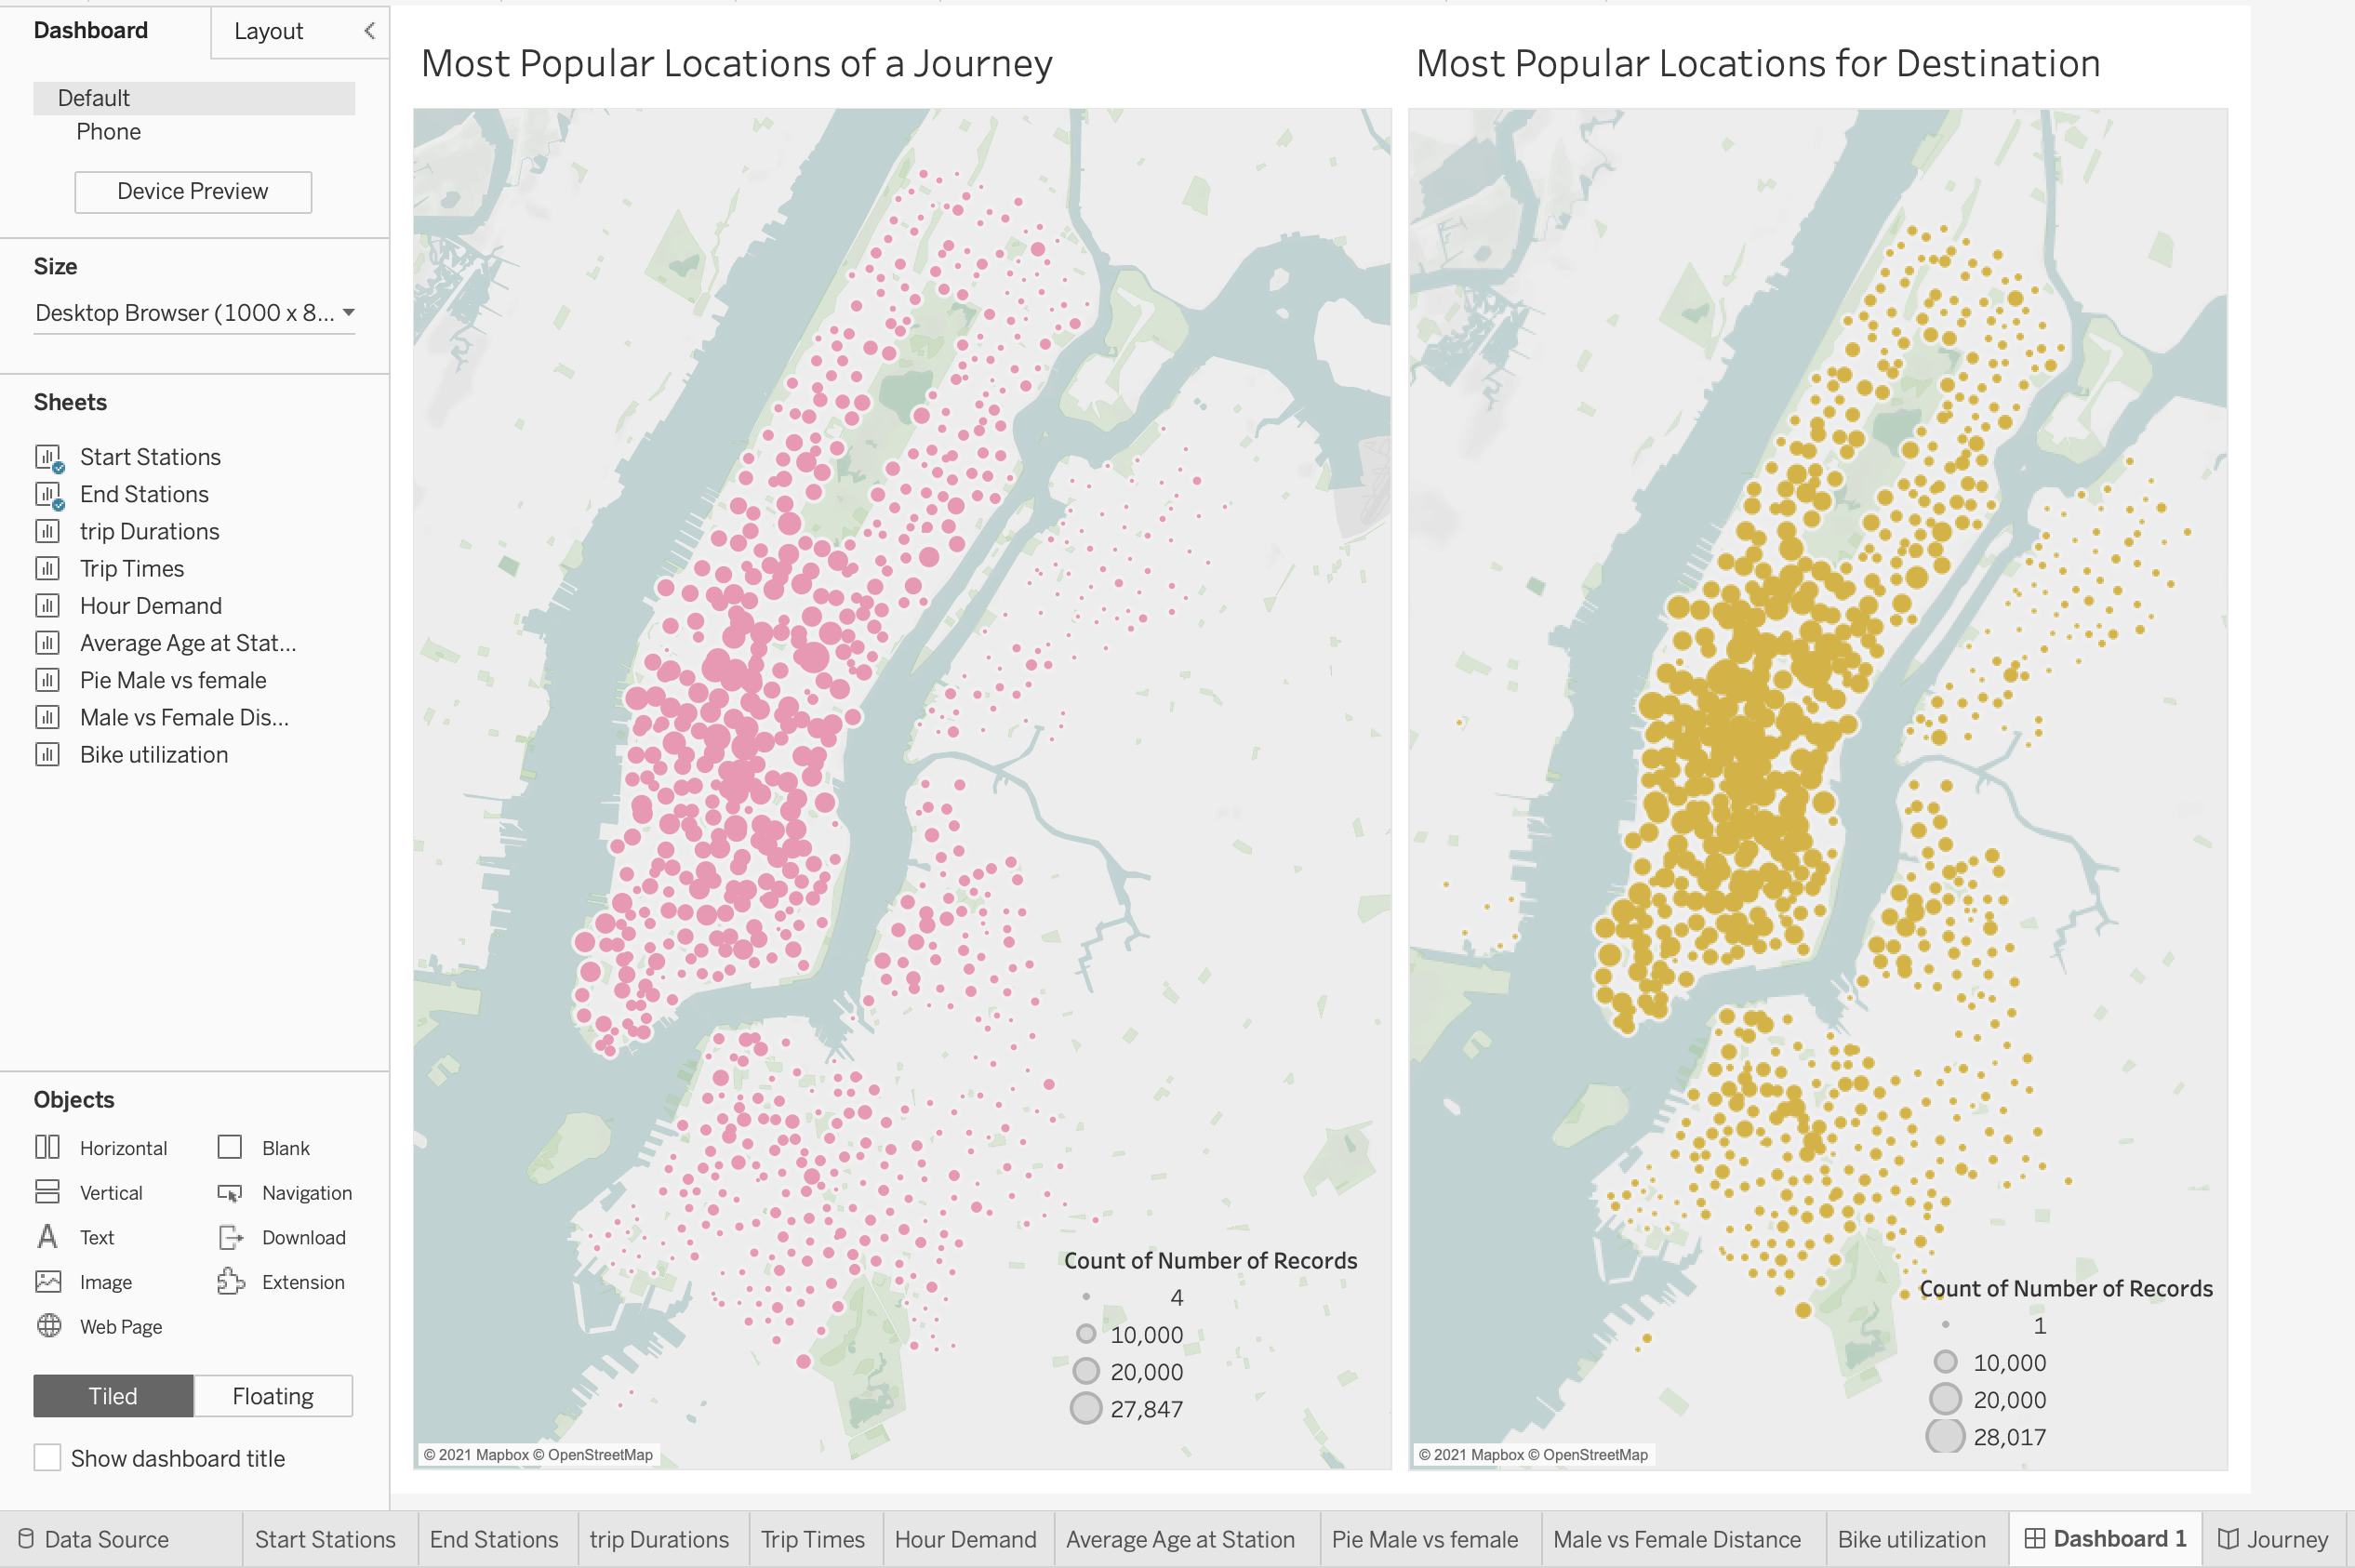

This screenshot's page, from the dashboard's own definition file:
{"tool":"tableau","page":{"name":"Dashboard 1","canvas":[1000,800],"ordinal":0},"visuals":[{"type":"worksheet","box":[0,0,1000,800]},{"type":"worksheet","param":"horz","box":[8,8,984,784]},{"type":"worksheet","box":[8,8,535,784]},{"type":"worksheet","title":"Start Stations","mark":"Automatic","rows":["start station latitude"],"cols":["start station longitude"],"box":[8,8,535,784]},{"type":"worksheet","param":"vert","box":[543,8,449,784]},{"type":"worksheet","title":"End Stations","mark":"Automatic","rows":["end station latitude"],"cols":["end station longitude"],"box":[543,8,449,784]},{"type":"worksheet","title":"Start Stations","mark":"Automatic","rows":["start station latitude"],"cols":["start station longitude"],"param":"[federated.1ci9hct0n41gi71f5vkxs08n8zq0].[cnt:Calculation_489836882667462661:qk]","box":[362,666,172,117]},{"type":"worksheet","title":"End Stations","mark":"Automatic","rows":["end station latitude"],"cols":["end station longitude"],"param":"[federated.1ci9hct0n41gi71f5vkxs08n8zq0].[cnt:Calculation_489836882667462661:qk]","box":[822,681,166,98]}]}

Visuals, with their boxes in screenshot pixels (x1, y1, x2, y2):
worksheet: box=[0, 49, 1793, 1542]
worksheet: box=[0, 64, 1778, 1527]
worksheet: box=[0, 64, 940, 1527]
"Start Stations" worksheet: box=[0, 64, 940, 1527]
worksheet: box=[940, 64, 1778, 1527]
"End Stations" worksheet: box=[940, 64, 1778, 1527]
"Start Stations" worksheet: box=[602, 1292, 924, 1510]
"End Stations" worksheet: box=[1461, 1321, 1771, 1503]
